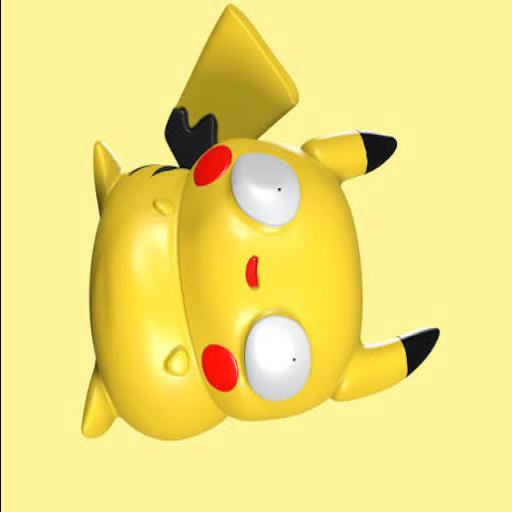Pikachu: (81, 4, 440, 440)
